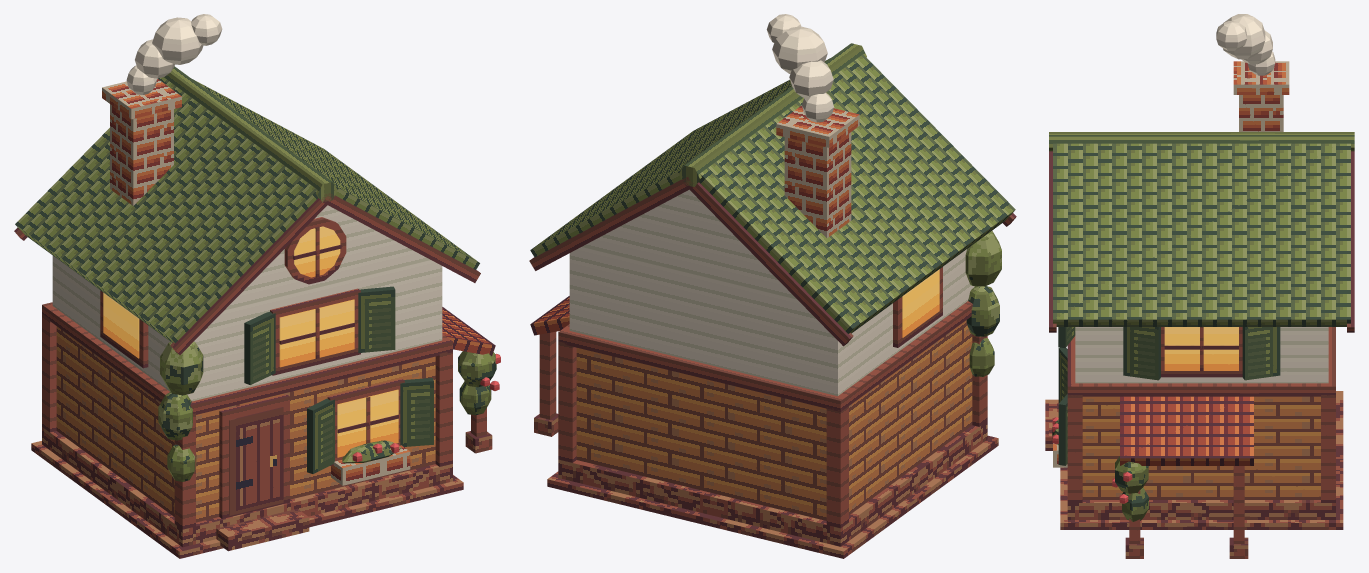
File: house2.glb
3 views of the same model, side by side, from view 1: azimuth 30°, elevation 25°; view 2: azimuth 150°, elevation 25°; view 3: azimuth 270°, elevation 25° (orthographic). The views are drawn at different scales.
Parts seen in each view (by area): view 1: roof_slope~x, ground_floor, upper_floor, base, mid_beam, roof_slope, gable, door_panel, chimney, base_rim, win_f2_glass, roof_ridge (+30 smaller); view 2: ground_floor, roof_slope~x, upper_floor, base, gable, mid_beam, roof_slope, base_rim, chimney, roof_ridge, fascia~xz, corner_post~xz (+14 smaller); view 3: roof_slope, ground_floor, porch_roof, upper_floor, base, mid_beam, base_rim, roof_ridge, win_r2_glass, win_r2_shut~z, win_r2_shut, corner_post (+15 smaller).
Boxes of the visible parts, x1=… form: roof_slope~x: x1=15, y1=77, x2=317, y2=343; ground_floor: x1=56, y1=326, x2=435, y2=522; upper_floor: x1=52, y1=255, x2=442, y2=401; base: x1=42, y1=427, x2=452, y2=547; mid_beam: x1=42, y1=302, x2=452, y2=415; roof_slope: x1=192, y1=79, x2=479, y2=269; gable: x1=225, y1=205, x2=430, y2=310; door_panel: x1=229, y1=407, x2=283, y2=515; chimney: x1=110, y1=104, x2=173, y2=205; base_rim: x1=31, y1=441, x2=463, y2=558; win_f2_glass: x1=279, y1=299, x2=354, y2=367; roof_ridge: x1=164, y1=66, x2=337, y2=202; ground_floor: x1=576, y1=320, x2=972, y2=520; roof_slope~x: x1=699, y1=54, x2=1015, y2=333; upper_floor: x1=569, y1=247, x2=974, y2=396; base: x1=558, y1=421, x2=987, y2=546; gable: x1=582, y1=189, x2=796, y2=299; mid_beam: x1=558, y1=301, x2=972, y2=411; roof_slope: x1=530, y1=58, x2=830, y2=257; base_rim: x1=547, y1=435, x2=998, y2=558; chimney: x1=784, y1=132, x2=851, y2=237; roof_ridge: x1=679, y1=43, x2=866, y2=186; fascia~xz: x1=685, y1=182, x2=853, y2=346; corner_post~xz: x1=826, y1=406, x2=848, y2=528; roof_slope: x1=1053, y1=143, x2=1350, y2=326; ground_floor: x1=1082, y1=396, x2=1320, y2=499; porch_roof: x1=1120, y1=396, x2=1253, y2=465; upper_floor: x1=1075, y1=327, x2=1328, y2=383; base: x1=1067, y1=500, x2=1335, y2=519; mid_beam: x1=1067, y1=327, x2=1335, y2=396; base_rim: x1=1060, y1=391, x2=1343, y2=529; roof_ridge: x1=1049, y1=132, x2=1354, y2=151; win_r2_glass: x1=1164, y1=327, x2=1238, y2=370; win_r2_shut~z: x1=1242, y1=327, x2=1280, y2=380; win_r2_shut: x1=1123, y1=327, x2=1160, y2=380; corner_post: x1=1067, y1=395, x2=1082, y2=502.
Size of the model in its own units: 3.4 by 3.97 by 2.59.
14 materials, 14 textured.
